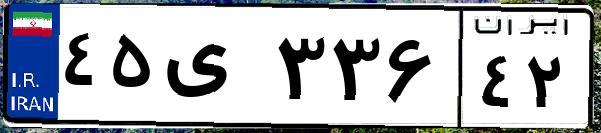2: (525, 38, 570, 115)
3: (270, 28, 330, 110), (330, 28, 385, 110)
4: (57, 26, 110, 100), (475, 38, 525, 113)
5: (110, 28, 158, 98)
6: (385, 28, 445, 110)
ی: (158, 20, 270, 120)
